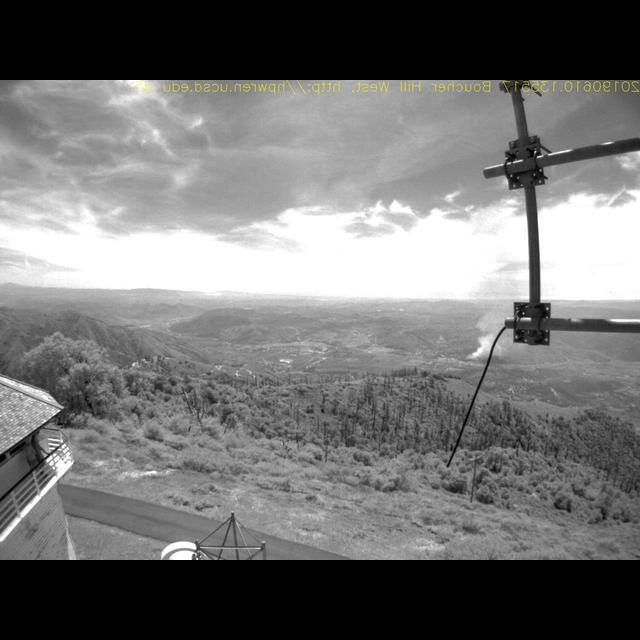Smoke: (466, 274, 514, 364)
